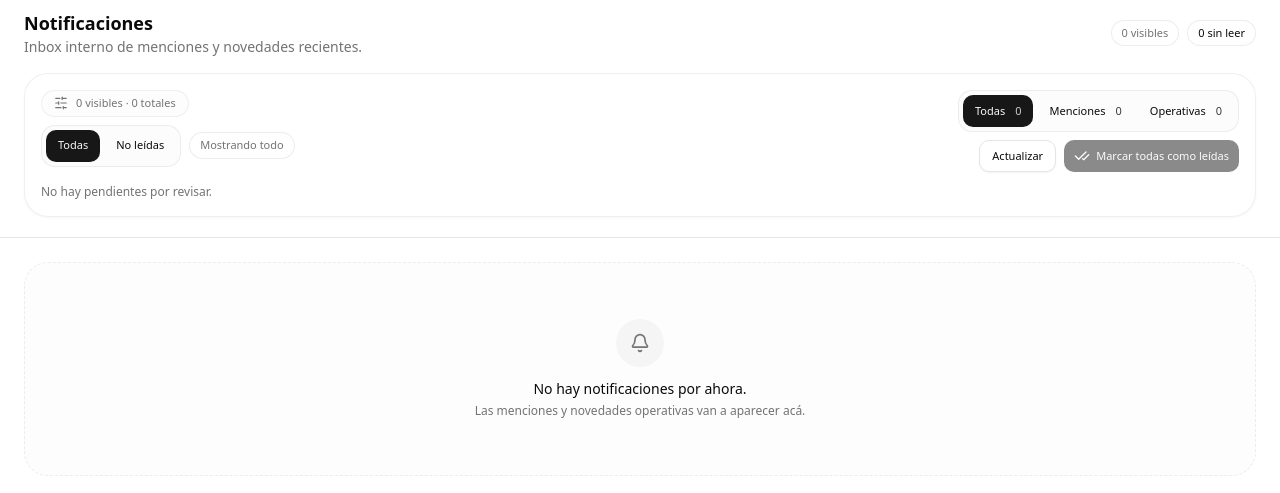
Test: NotificationsInbox › muestra estado vacío contextual cuando no hay pendientes
Step 1. Click the button "No leídas" → (140, 146), box [104,130,176,162]
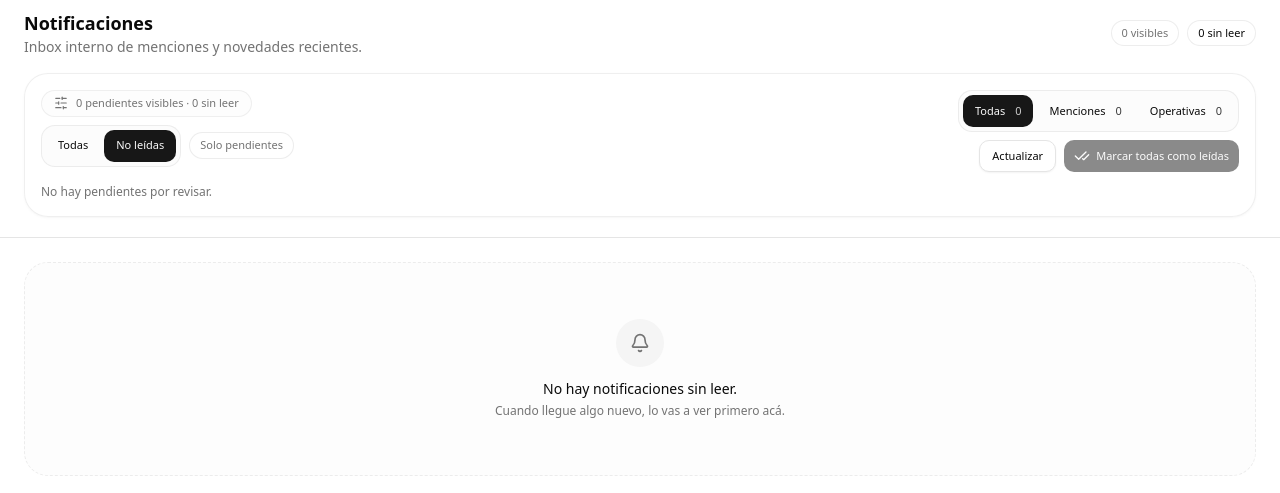
expect the text "No hay notificaciones sin leer." is shown: met, box [543,379,737,398]
expect the text "Cuando llegue algo nuevo, lo vas a ver primero acá." is shown: met, box [495,403,785,419]
